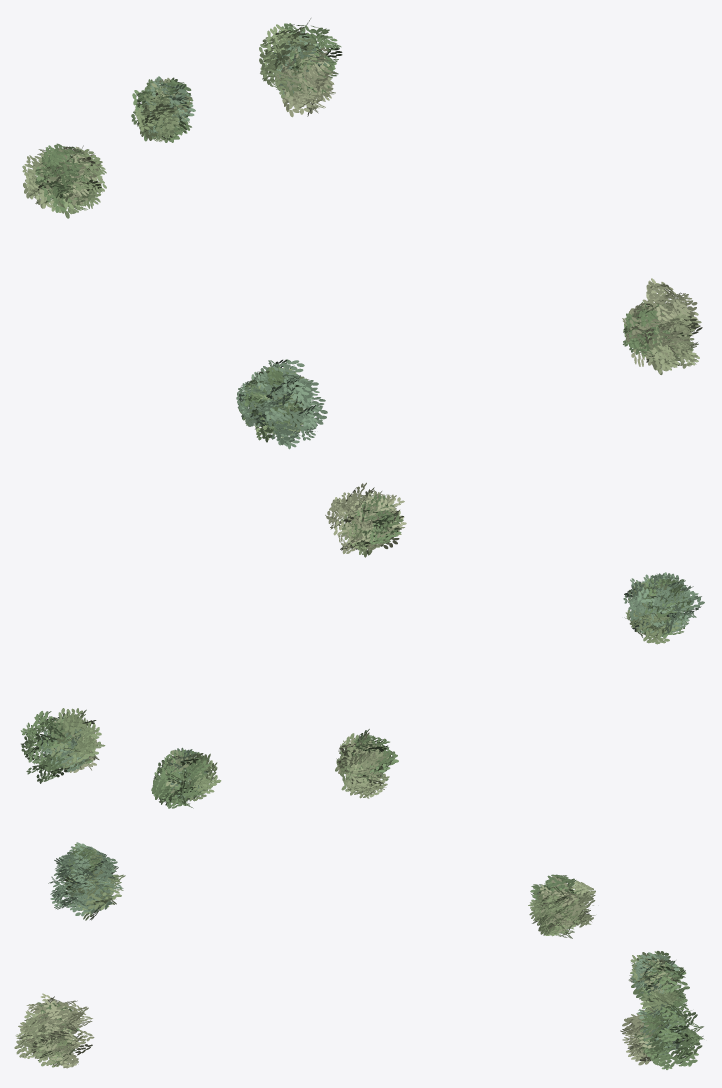
File: campus-tree-0_-3-middle.glb
3 views of the same model, one above another, from view 1: azimuth 30°, elevation 25°; view 2: azimuth 150°, elevation 25°; view 3: azimuth 270°, elevation 25° (orthographic). The views are drawn at different scales.
Visible parts, largest first — view 1: Campus leaf canopy; view 2: Campus leaf canopy; view 3: Campus leaf canopy.
Part boxes in pixels (x1,y1,x2,y2): Campus leaf canopy: (22,18,702,449); Campus leaf canopy: (20,482,704,808); Campus leaf canopy: (14,842,704,1069).
Bounding box in the file's own units: 32.84 × 6.09 × 51.31.
Materials: 1 (1 with a texture image).
